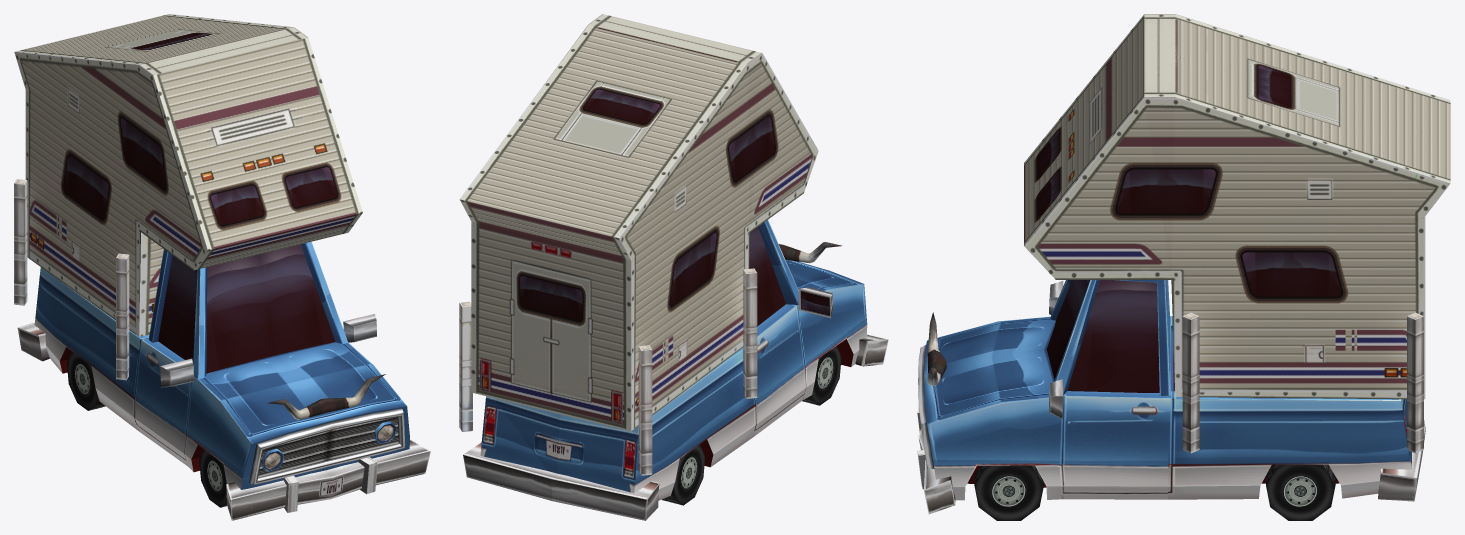
The model's file is Pickup_Truck_Blue.FBX.
3 views of the same model, side by side, from view 1: azimuth 30°, elevation 25°; view 2: azimuth 150°, elevation 25°; view 3: azimuth 270°, elevation 25° (orthographic). The views are drawn at different scales.
Visible parts, largest first — view 1: Trailer, PickupTruckBlue, Tyre_rear, HoodOrnament, Tyre_frnt; view 2: Trailer, PickupTruckBlue, Tyre_rear, Tyre_frnt, HoodOrnament; view 3: Trailer, PickupTruckBlue, Tyre_rear, Tyre_frnt, HoodOrnament.
Part boxes in pixels (x1,y1,x2,y2): Trailer: (14, 14, 362, 380); PickupTruckBlue: (17, 241, 430, 520); Tyre_rear: (67, 351, 105, 410); HoodOrnament: (267, 374, 385, 419); Tyre_frnt: (199, 449, 226, 507); Trailer: (459, 14, 818, 475); PickupTruckBlue: (463, 220, 888, 520); Tyre_rear: (662, 444, 705, 505); Tyre_frnt: (802, 346, 841, 405); HoodOrnament: (778, 242, 842, 263); Trailer: (1024, 14, 1450, 453); PickupTruckBlue: (917, 280, 1425, 514); Tyre_rear: (1266, 464, 1335, 520); Tyre_frnt: (974, 465, 1043, 520); HoodOrnament: (927, 312, 946, 386).
Bounding box in the file's own units: 74.58 × 127 × 146.
